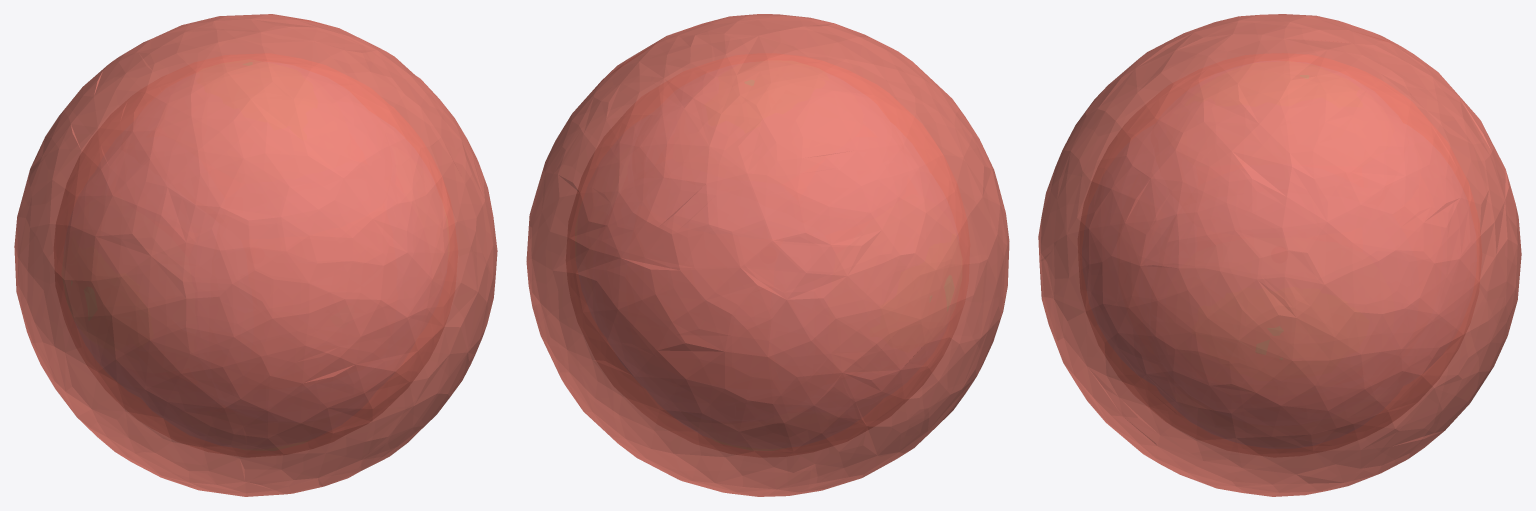
File: orbital.glb
3 views of the same model, side by side, from view 1: azimuth 30°, elevation 25°; view 2: azimuth 150°, elevation 25°; view 3: azimuth 270°, elevation 25° (orthographic).
Visible parts, largest first — view 1: La_n6_s_ml0_node, La_n5_s_ml0_node; view 2: La_n6_s_ml0_node, La_n5_s_ml0_node; view 3: La_n6_s_ml0_node, La_n5_s_ml0_node.
Boxes of the visible parts, x1,y1,x2,y2 form: La_n6_s_ml0_node: [14, 14, 497, 496]; La_n5_s_ml0_node: [54, 53, 457, 457]; La_n6_s_ml0_node: [526, 14, 1009, 496]; La_n5_s_ml0_node: [566, 53, 969, 457]; La_n6_s_ml0_node: [1038, 14, 1521, 496]; La_n5_s_ml0_node: [1078, 53, 1481, 457].
Bounding box in the file's own units: 3.06 × 3.06 × 3.06.
